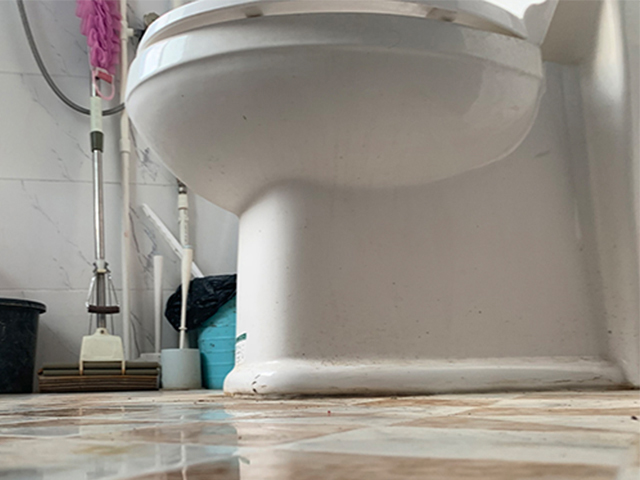closestool: (123, 1, 640, 398)
trashcan: (193, 274, 237, 391)
